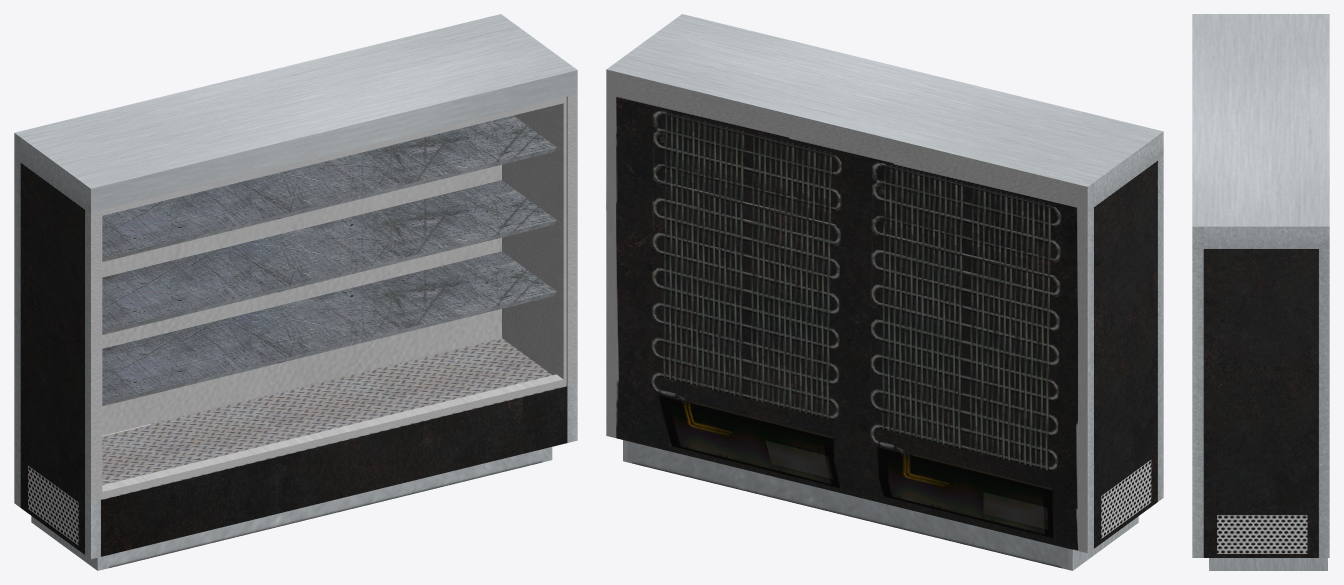
The model's file is Fridge.glb.
The picture shows the model from 3 angles, left to right: view 1: azimuth 30°, elevation 25°; view 2: azimuth 150°, elevation 25°; view 3: azimuth 270°, elevation 25°; orthographic projection. The views are drawn at different scales.
Visible parts, largest first — view 1: Box001, Box002, Box006; view 2: Box001; view 3: Box001.
Part boxes in pixels (box(x1,y1,x2,y2)): Box001: box(14, 14, 577, 570); Box002: box(102, 115, 556, 406); Box006: box(101, 96, 566, 498); Box001: box(606, 14, 1163, 570); Box001: box(1192, 14, 1329, 570).
Bounding box in the file's own units: 275 × 212 × 75.
3 materials, 3 textured.
